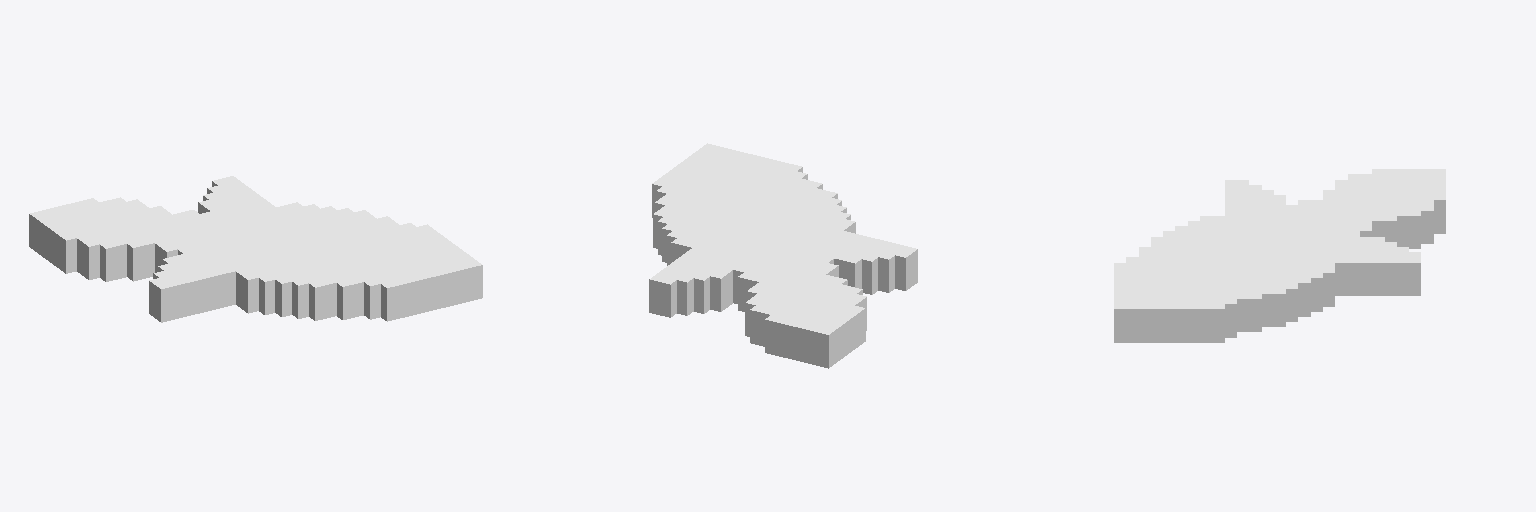
The model's file is boost.obj.
3 views of the same model, side by side, from view 1: azimuth 30°, elevation 25°; view 2: azimuth 150°, elevation 25°; view 3: azimuth 270°, elevation 25° (orthographic).
Visible parts, largest first — view 1: object 1; view 2: object 1; view 3: object 1.
Boxes of the visible parts, x1,y1,x2,y2 form: object 1: [29, 176, 482, 322]; object 1: [649, 143, 917, 368]; object 1: [1114, 169, 1445, 342].
Size of the model in its own units: 2.7 by 0.3 by 2.7.